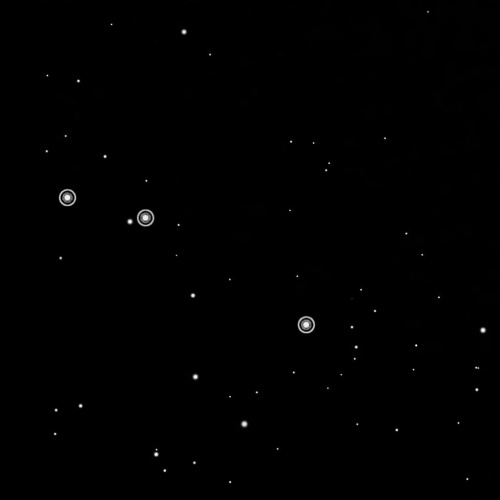vulpecula: (52, 181, 320, 339)
